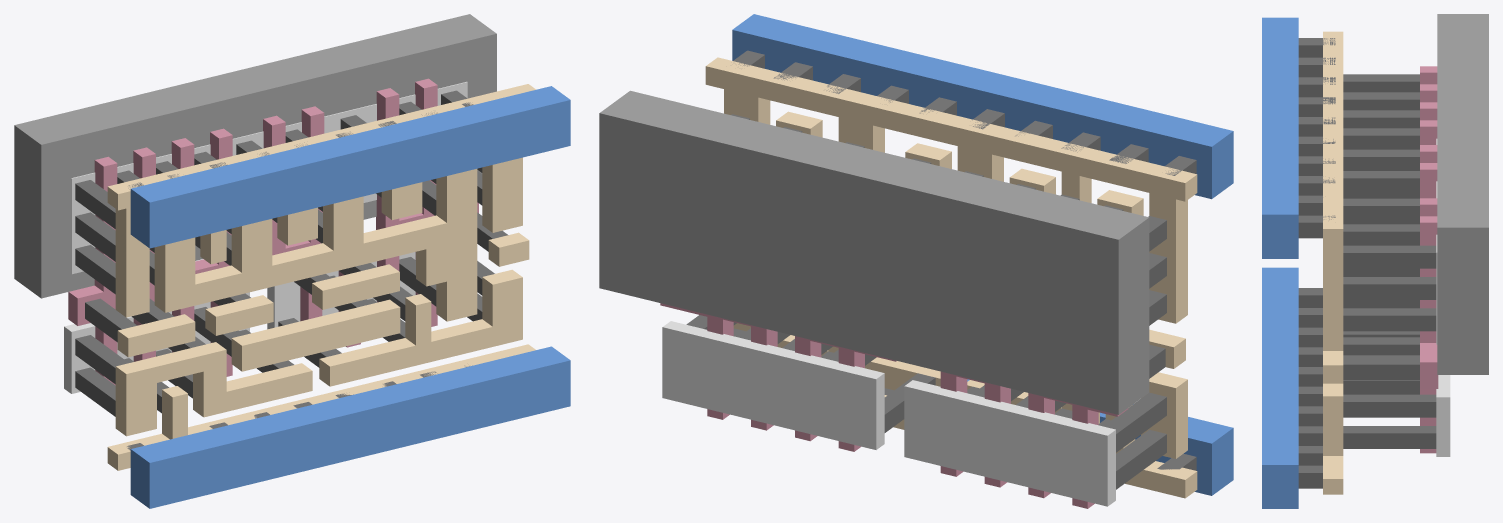
File: sky130_fd_sc_hd__nand4_2.gds.gltf
3 views of the same model, side by side, from view 1: azimuth 30°, elevation 25°; view 2: azimuth 150°, elevation 25°; view 3: azimuth 270°, elevation 25° (orthographic). The views are drawn at different scales.
Visible parts, largest first — view 1: sky130_fd_sc_hd__nand4_2_li1, sky130_fd_sc_hd__nand4_2_met1, sky130_fd_sc_hd__nand4_2_nwell, sky130_fd_sc_hd__nand4_2_licon, sky130_fd_sc_hd__nand4_2_poly, sky130_fd_sc_hd__nand4_2_diff, sky130_fd_sc_hd__nand4_2_mcon; view 2: sky130_fd_sc_hd__nand4_2_nwell, sky130_fd_sc_hd__nand4_2_diff, sky130_fd_sc_hd__nand4_2_li1, sky130_fd_sc_hd__nand4_2_met1, sky130_fd_sc_hd__nand4_2_licon, sky130_fd_sc_hd__nand4_2_poly, sky130_fd_sc_hd__nand4_2_mcon; view 3: sky130_fd_sc_hd__nand4_2_licon, sky130_fd_sc_hd__nand4_2_nwell, sky130_fd_sc_hd__nand4_2_met1, sky130_fd_sc_hd__nand4_2_mcon, sky130_fd_sc_hd__nand4_2_li1, sky130_fd_sc_hd__nand4_2_poly, sky130_fd_sc_hd__nand4_2_diff.
Boxes of the visible parts, x1,y1,x2,y2 form: sky130_fd_sc_hd__nand4_2_li1: [107, 84, 535, 470]; sky130_fd_sc_hd__nand4_2_met1: [130, 86, 570, 508]; sky130_fd_sc_hd__nand4_2_nwell: [14, 14, 496, 298]; sky130_fd_sc_hd__nand4_2_licon: [75, 90, 508, 416]; sky130_fd_sc_hd__nand4_2_poly: [68, 78, 478, 385]; sky130_fd_sc_hd__nand4_2_diff: [64, 81, 467, 393]; sky130_fd_sc_hd__nand4_2_mcon: [127, 102, 473, 450]; sky130_fd_sc_hd__nand4_2_nwell: [599, 90, 1149, 414]; sky130_fd_sc_hd__nand4_2_diff: [662, 321, 1115, 506]; sky130_fd_sc_hd__nand4_2_li1: [705, 57, 1197, 498]; sky130_fd_sc_hd__nand4_2_met1: [732, 14, 1233, 495]; sky130_fd_sc_hd__nand4_2_licon: [686, 114, 1166, 489]; sky130_fd_sc_hd__nand4_2_poly: [660, 303, 1128, 508]; sky130_fd_sc_hd__nand4_2_mcon: [733, 50, 1196, 470]; sky130_fd_sc_hd__nand4_2_licon: [1343, 74, 1436, 448]; sky130_fd_sc_hd__nand4_2_nwell: [1437, 14, 1488, 374]; sky130_fd_sc_hd__nand4_2_met1: [1262, 17, 1298, 508]; sky130_fd_sc_hd__nand4_2_mcon: [1298, 38, 1335, 488]; sky130_fd_sc_hd__nand4_2_li1: [1323, 31, 1343, 494]; sky130_fd_sc_hd__nand4_2_poly: [1420, 66, 1438, 453]; sky130_fd_sc_hd__nand4_2_diff: [1436, 138, 1450, 456].
Size of the model in its own units: 4.98 by 3.2 by 2.24.
